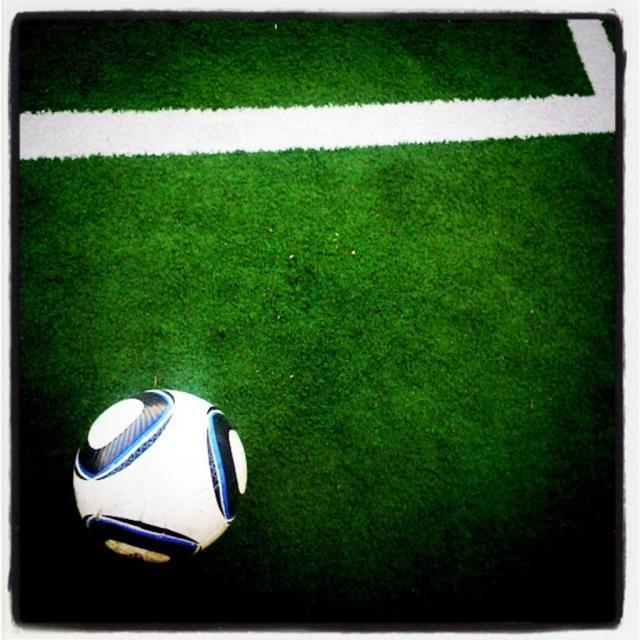football: (57, 366, 284, 575)
